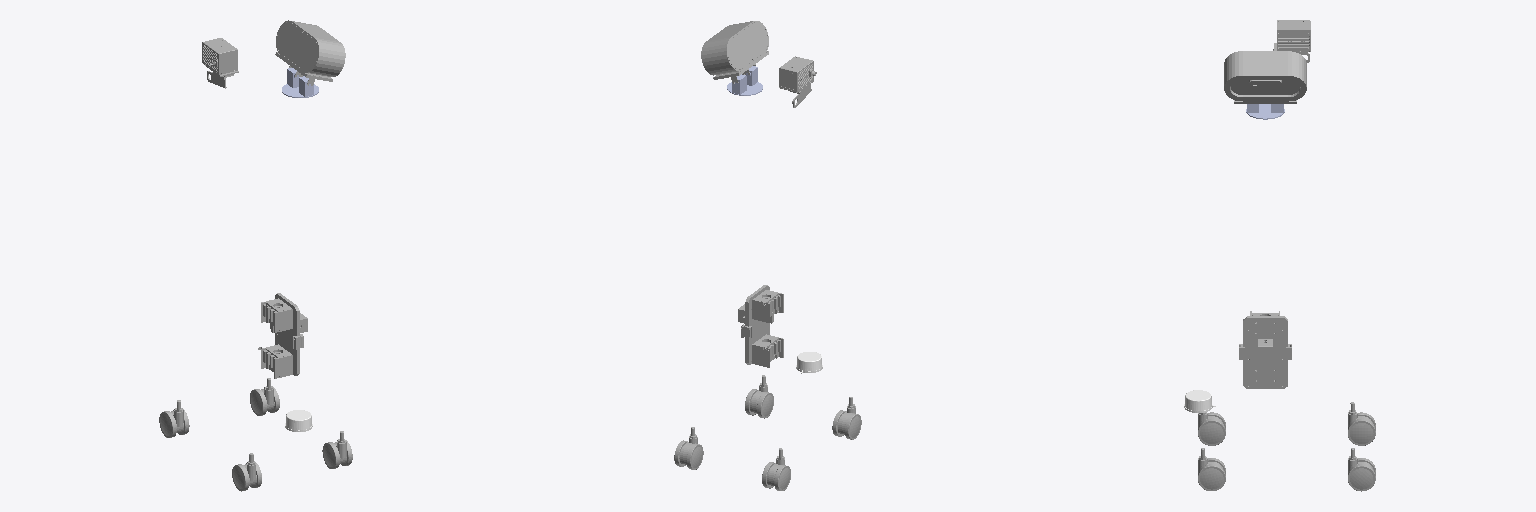
URDF robot description (minnav_moma_description):
<?xml version="1.0" encoding="utf-8"?>
<!-- This URDF was automatically created by SolidWorks to URDF Exporter! Originally created by [author] ([email redacted]) 
     Commit Version: 1.5.1-0-g916b5db  Build Version: 1.5.7152.31018
     For more information, please see http://wiki.ros.org/sw_urdf_exporter -->
<robot
  name="minnav_moma_description">
  <link
    name="base_link">
    <inertial>
      <origin
        xyz="0.0403860213344624 0.495490656840133 -0.0450666311162176"
        rpy="0 0 0" />
      <mass
        value="9.01280280594588" />
      <inertia
        ixx="0.0895631286758285"
        ixy="-0.00137199882894574"
        ixz="0.00249100411054732"
        iyy="0.0978432794810514"
        iyz="-0.00016042295456057"
        izz="0.0906256853508929" />
    </inertial>
    <visual>
      <origin
        xyz="0 0 0"
        rpy="0 0 0" />
      <geometry>
        <mesh
          filename="package://minnav_moma_description/meshes/v2/base_link.STL" />
      </geometry>
      <material
        name="">
        <color
          rgba="0.752941176470588 0.752941176470588 0.752941176470588 1" />
      </material>
    </visual>
    <collision>
      <origin
        xyz="0 0 0"
        rpy="0 0 0" />
      <geometry>
        <mesh
          filename="package://minnav_moma_description/meshes/v2/base_link.STL" />
      </geometry>
    </collision>
  </link>
  <link
    name="2DRadar">
    <inertial>
      <origin
        xyz="3.81358176767821E-05 0.0168839488939112 5.55414041841784E-09"
        rpy="0 0 0" />
      <mass
        value="0.141542870807911" />
      <inertia
        ixx="6.03570230255589E-05"
        ixy="7.76468231305162E-08"
        ixz="-2.37252352294725E-11"
        iyy="9.22530105635559E-05"
        iyz="-7.76258819389751E-12"
        izz="6.05891194689322E-05" />
    </inertial>
    <visual>
      <origin
        xyz="0 0 0"
        rpy="0 0 0" />
      <geometry>
        <mesh
          filename="package://minnav_moma_description/meshes/v2/2DRadar.STL" />
      </geometry>
      <material
        name="">
        <color
          rgba="1 1 1 1" />
      </material>
    </visual>
    <collision>
      <origin
        xyz="0 0 0"
        rpy="0 0 0" />
      <geometry>
        <mesh
          filename="package://minnav_moma_description/meshes/v2/2DRadar.STL" />
      </geometry>
    </collision>
  </link>
  <joint
    name="JT_2DRadar"
    type="fixed">
    <origin
      xyz="0.03 -0.162 0.1775"
      rpy="1.5708 0 1.5708" />
    <parent
      link="base_link" />
    <child
      link="2DRadar" />
    <axis
      xyz="0 0 0" />
  </joint>
  <link
    name="ArmBase">
    <inertial>
      <origin
        xyz="-0.0212259398085508 -0.023220210965598 0.000303630377992841"
        rpy="0 0 0" />
      <mass
        value="0.721940197442544" />
      <inertia
        ixx="0.00158920125791432"
        ixy="-4.11141260832954E-05"
        ixz="-8.76729740001719E-07"
        iyy="0.000690426545178568"
        iyz="-1.23499539645942E-06"
        izz="0.00117650013078168" />
    </inertial>
    <visual>
      <origin
        xyz="0 0 0"
        rpy="0 0 0" />
      <geometry>
        <mesh
          filename="package://minnav_moma_description/meshes/v2/ArmBase.STL" />
      </geometry>
      <material
        name="">
        <color
          rgba="0.752941176470588 0.752941176470588 0.752941176470588 1" />
      </material>
    </visual>
    <collision>
      <origin
        xyz="0 0 0"
        rpy="0 0 0" />
      <geometry>
        <mesh
          filename="package://minnav_moma_description/meshes/v2/ArmBase.STL" />
      </geometry>
    </collision>
  </link>
  <joint
    name="JT_ArmBase"
    type="prismatic">
    <origin
      xyz="0.1056 0.0175 0.3925"
      rpy="1.5708 0 0" />
    <parent
      link="base_link" />
    <child
      link="ArmBase" />
    <axis
      xyz="0 -1 0" />
    <limit
      lower="-0.3"
      upper="0"
      effort="0"
      velocity="0" />
  </joint>
  <link
    name="UniWheelBase_LB">
    <inertial>
      <origin
        xyz="0.0182260960322877 5.55111512312578E-17 -0.029270899984493"
        rpy="0 0 0" />
      <mass
        value="0.0847351495375796" />
      <inertia
        ixx="3.49474283390519E-05"
        ixy="3.11041504027681E-20"
        ixz="-1.16340041790673E-05"
        iyy="6.07135705376021E-05"
        iyz="1.30363335304502E-20"
        izz="3.34756139191196E-05" />
    </inertial>
    <visual>
      <origin
        xyz="0 0 0"
        rpy="0 0 0" />
      <geometry>
        <mesh
          filename="package://minnav_moma_description/meshes/v2/UniWheelBase_LB.STL" />
      </geometry>
      <material
        name="">
        <color
          rgba="0.752941176470588 0.752941176470588 0.752941176470588 1" />
      </material>
    </visual>
    <collision>
      <origin
        xyz="0 0 0"
        rpy="0 0 0" />
      <geometry>
        <mesh
          filename="package://minnav_moma_description/meshes/v2/UniWheelBase_LB.STL" />
      </geometry>
    </collision>
  </link>
  <joint
    name="JT_UniWheelBase_LB"
    type="continuous">
    <origin
      xyz="0.1735 0.25 0.0295"
      rpy="3.1416 0 1.5708" />
    <parent
      link="base_link" />
    <child
      link="UniWheelBase_LB" />
    <axis
      xyz="0 0 1" />
  </joint>
  <link
    name="UniWheel_LB">
    <inertial>
      <origin
        xyz="1.35288199670791E-08 3.81426298878829E-08 -2.32971358038458E-08"
        rpy="0 0 0" />
      <mass
        value="0.131455385710739" />
      <inertia
        ixx="8.23652797722568E-05"
        ixy="-4.32851042767412E-11"
        ixz="-1.47949297594817E-05"
        iyy="4.67613870209975E-05"
        iyz="-2.809067591878E-11"
        izz="5.29115412162832E-05" />
    </inertial>
    <visual>
      <origin
        xyz="0 0 0"
        rpy="0 0 0" />
      <geometry>
        <mesh
          filename="package://minnav_moma_description/meshes/v2/UniWheel_LB.STL" />
      </geometry>
      <material
        name="">
        <color
          rgba="0.752941176470588 0.752941176470588 0.752941176470588 1" />
      </material>
    </visual>
    <collision>
      <origin
        xyz="0 0 0"
        rpy="0 0 0" />
      <geometry>
        <mesh
          filename="package://minnav_moma_description/meshes/v2/UniWheel_LB.STL" />
      </geometry>
    </collision>
  </link>
  <joint
    name="JT_UniWheel_LB"
    type="continuous">
    <origin
      xyz="0.024 0 -0.016"
      rpy="-2.2739 0.26249 1.8679" />
    <parent
      link="UniWheelBase_LB" />
    <child
      link="UniWheel_LB" />
    <axis
      xyz="0.92344 0 -0.38375" />
  </joint>
  <link
    name="UniWheelBase_RB">
    <inertial>
      <origin
        xyz="0.0182260960322876 1.38777878078145E-17 -0.029270899984493"
        rpy="0 0 0" />
      <mass
        value="0.0847351495375795" />
      <inertia
        ixx="3.49474283390518E-05"
        ixy="3.02345328211204E-20"
        ixz="-1.16340041790673E-05"
        iyy="6.0713570537602E-05"
        iyz="6.28812266231557E-21"
        izz="3.34756139191195E-05" />
    </inertial>
    <visual>
      <origin
        xyz="0 0 0"
        rpy="0 0 0" />
      <geometry>
        <mesh
          filename="package://minnav_moma_description/meshes/v2/UniWheelBase_RB.STL" />
      </geometry>
      <material
        name="">
        <color
          rgba="0.752941176470588 0.752941176470588 0.752941176470588 1" />
      </material>
    </visual>
    <collision>
      <origin
        xyz="0 0 0"
        rpy="0 0 0" />
      <geometry>
        <mesh
          filename="package://minnav_moma_description/meshes/v2/UniWheelBase_RB.STL" />
      </geometry>
    </collision>
  </link>
  <joint
    name="JT_UniWheelBase_RB"
    type="continuous">
    <origin
      xyz="-0.1135 0.25 0.0295"
      rpy="3.1416 0 1.5708" />
    <parent
      link="base_link" />
    <child
      link="UniWheelBase_RB" />
    <axis
      xyz="0 0 1" />
  </joint>
  <link
    name="UniWheel_RB">
    <inertial>
      <origin
        xyz="1.35288200087125E-08 3.81426298948218E-08 -2.32971358038458E-08"
        rpy="0 0 0" />
      <mass
        value="0.131455385710739" />
      <inertia
        ixx="8.23651467092563E-05"
        ixy="-4.33611722537931E-11"
        ixz="-1.47949693968671E-05"
        iyy="4.67614248550018E-05"
        iyz="-2.80592970201838E-11"
        izz="5.29113308586732E-05" />
    </inertial>
    <visual>
      <origin
        xyz="0 0 0"
        rpy="0 0 0" />
      <geometry>
        <mesh
          filename="package://minnav_moma_description/meshes/v2/UniWheel_RB.STL" />
      </geometry>
      <material
        name="">
        <color
          rgba="0.752941176470588 0.752941176470588 0.752941176470588 1" />
      </material>
    </visual>
    <collision>
      <origin
        xyz="0 0 0"
        rpy="0 0 0" />
      <geometry>
        <mesh
          filename="package://minnav_moma_description/meshes/v2/UniWheel_RB.STL" />
      </geometry>
    </collision>
  </link>
  <joint
    name="JT_UniWheel_RB"
    type="continuous">
    <origin
      xyz="0.024 0 -0.016"
      rpy="-1.583 0.0050581 -1.177" />
    <parent
      link="UniWheelBase_RB" />
    <child
      link="UniWheel_RB" />
    <axis
      xyz="0.92344 0 -0.38375" />
  </joint>
  <link
    name="UniWheelBase_RF">
    <inertial>
      <origin
        xyz="0.0182260960322877 2.77555756156289E-17 -0.029270899984493"
        rpy="0 0 0" />
      <mass
        value="0.0847351495375796" />
      <inertia
        ixx="3.4947428339052E-05"
        ixy="3.8797981127707E-20"
        ixz="-1.16340041790674E-05"
        iyy="6.07135705376022E-05"
        iyz="2.01517494285717E-20"
        izz="3.34756139191196E-05" />
    </inertial>
    <visual>
      <origin
        xyz="0 0 0"
        rpy="0 0 0" />
      <geometry>
        <mesh
          filename="package://minnav_moma_description/meshes/v2/UniWheelBase_RF.STL" />
      </geometry>
      <material
        name="">
        <color
          rgba="0.752941176470588 0.752941176470588 0.752941176470588 1" />
      </material>
    </visual>
    <collision>
      <origin
        xyz="0 0 0"
        rpy="0 0 0" />
      <geometry>
        <mesh
          filename="package://minnav_moma_description/meshes/v2/UniWheelBase_RF.STL" />
      </geometry>
    </collision>
  </link>
  <joint
    name="JT_UniWheelBase_RF"
    type="continuous">
    <origin
      xyz="-0.1135 -0.15 0.0295"
      rpy="3.1416 0 1.5708" />
    <parent
      link="base_link" />
    <child
      link="UniWheelBase_RF" />
    <axis
      xyz="0 0 1" />
  </joint>
  <link
    name="UniWheel_RF">
    <inertial>
      <origin
        xyz="1.3529E-08 3.8143E-08 -2.3297E-08"
        rpy="0 0 0" />
      <mass
        value="0.13146" />
      <inertia
        ixx="8.2365E-05"
        ixy="-4.3361E-11"
        ixz="-1.4795E-05"
        iyy="4.6761E-05"
        iyz="-2.8059E-11"
        izz="5.2911E-05" />
    </inertial>
    <visual>
      <origin
        xyz="0 0 0"
        rpy="0 0 0" />
      <geometry>
        <mesh
          filename="package://minnav_moma_description/meshes/v2/UniWheel_RF.STL" />
      </geometry>
      <material
        name="">
        <color
          rgba="0.75294 0.75294 0.75294 1" />
      </material>
    </visual>
    <collision>
      <origin
        xyz="0 0 0"
        rpy="0 0 0" />
      <geometry>
        <mesh
          filename="package://minnav_moma_description/meshes/v2/UniWheel_RF.STL" />
      </geometry>
    </collision>
  </link>
  <joint
    name="JT_UniWheel_RF"
    type="continuous">
    <origin
      xyz="0.024 0 -0.016"
      rpy="1.7124 0.058584 1.1811" />
    <parent
      link="UniWheelBase_RF" />
    <child
      link="UniWheel_RF" />
    <axis
      xyz="0.92344 0 -0.38375" />
  </joint>
  <link
    name="UniWheelBase_LF">
    <inertial>
      <origin
        xyz="0.018226 2.7756E-17 -0.029271"
        rpy="0 0 0" />
      <mass
        value="0.084735" />
      <inertia
        ixx="3.4947E-05"
        ixy="2.3781E-20"
        ixz="-1.1634E-05"
        iyy="6.0714E-05"
        iyz="5.1696E-21"
        izz="3.3476E-05" />
    </inertial>
    <visual>
      <origin
        xyz="0 0 0"
        rpy="0 0 0" />
      <geometry>
        <mesh
          filename="package://minnav_moma_description/meshes/v2/UniWheelBase_LF.STL" />
      </geometry>
      <material
        name="">
        <color
          rgba="0.75294 0.75294 0.75294 1" />
      </material>
    </visual>
    <collision>
      <origin
        xyz="0 0 0"
        rpy="0 0 0" />
      <geometry>
        <mesh
          filename="package://minnav_moma_description/meshes/v2/UniWheelBase_LF.STL" />
      </geometry>
    </collision>
  </link>
  <joint
    name="JT_UniWheelBase_LF"
    type="continuous">
    <origin
      xyz="0.1735 -0.15 0.0295"
      rpy="3.1416 0 1.5708" />
    <parent
      link="base_link" />
    <child
      link="UniWheelBase_LF" />
    <axis
      xyz="0 0 1" />
  </joint>
  <link
    name="UniWheel_LF">
    <inertial>
      <origin
        xyz="1.35288200919792E-08 3.81426298740051E-08 -2.32971358697653E-08"
        rpy="0 0 0" />
      <mass
        value="0.131455385710739" />
      <inertia
        ixx="8.23651467092563E-05"
        ixy="-4.3361172422088E-11"
        ixz="-1.4794969396867E-05"
        iyy="4.67614248550019E-05"
        iyz="-2.80592969555975E-11"
        izz="5.29113308586733E-05" />
    </inertial>
    <visual>
      <origin
        xyz="0 0 0"
        rpy="0 0 0" />
      <geometry>
        <mesh
          filename="package://minnav_moma_description/meshes/v2/UniWheel_LF.STL" />
      </geometry>
      <material
        name="">
        <color
          rgba="0.752941176470588 0.752941176470588 0.752941176470588 1" />
      </material>
    </visual>
    <collision>
      <origin
        xyz="0 0 0"
        rpy="0 0 0" />
      <geometry>
        <mesh
          filename="package://minnav_moma_description/meshes/v2/UniWheel_LF.STL" />
      </geometry>
    </collision>
  </link>
  <joint
    name="JT_UniWheel_LF"
    type="continuous">
    <origin
      xyz="0.024 0 -0.016"
      rpy="-0.26903 -0.38104 -1.4686" />
    <parent
      link="UniWheelBase_LF" />
    <child
      link="UniWheel_LF" />
    <axis
      xyz="0.92344 0 -0.38375" />
  </joint>
  <link
    name="3DRadar">
    <inertial>
      <origin
        xyz="-0.0312266646279417 0.0638299736845729 0.030856917757328"
        rpy="0 0 0" />
      <mass
        value="0.373601927474611" />
      <inertia
        ixx="0.000357539432888909"
        ixy="-9.66418226965086E-07"
        ixz="1.25802730916535E-06"
        iyy="0.000355400987826577"
        iyz="-2.25204460081374E-06"
        izz="0.000211286197089302" />
    </inertial>
    <visual>
      <origin
        xyz="0 0 0"
        rpy="0 0 0" />
      <geometry>
        <mesh
          filename="package://minnav_moma_description/meshes/v2/3DRadar.STL" />
      </geometry>
      <material
        name="">
        <color
          rgba="0.752941176470588 0.752941176470588 0.752941176470588 1" />
      </material>
    </visual>
    <collision>
      <origin
        xyz="0 0 0"
        rpy="0 0 0" />
      <geometry>
        <mesh
          filename="package://minnav_moma_description/meshes/v2/3DRadar.STL" />
      </geometry>
    </collision>
  </link>
  <joint
    name="JT_3DRadar"
    type="fixed">
    <origin
      xyz="-0.0428 0.1215 1.151"
      rpy="1.5708 0 0" />
    <parent
      link="base_link" />
    <child
      link="3DRadar" />
    <axis
      xyz="0 0 0" />
    <limit
      lower="0"
      upper="1.5708"
      effort="0"
      velocity="0" />
  </joint>
  <link
    name="PanTiltLink1">
    <inertial>
      <origin
        xyz="-9.0205620750794E-17 -1.11022302462516E-16 0.0224194936251991"
        rpy="0 0 0" />
      <mass
        value="0.125638006386442" />
      <inertia
        ixx="5.79840369760146E-05"
        ixy="-4.95095366983696E-09"
        ixz="-3.21800172164819E-19"
        iyy="0.000158965664023198"
        iyz="1.743720061968E-19"
        izz="0.000150893790612493" />
    </inertial>
    <visual>
      <origin
        xyz="0 0 0"
        rpy="0 0 0" />
      <geometry>
        <mesh
          filename="package://minnav_moma_description/meshes/v2/PanTiltLink1.STL" />
      </geometry>
      <material
        name="">
        <color
          rgba="0.796078431372549 0.823529411764706 0.937254901960784 1" />
      </material>
    </visual>
    <collision>
      <origin
        xyz="0 0 0"
        rpy="0 0 0" />
      <geometry>
        <mesh
          filename="package://minnav_moma_description/meshes/v2/PanTiltLink1.STL" />
      </geometry>
    </collision>
  </link>
  <joint
    name="JT_PanTiltLink1"
    type="continuous">
    <origin
      xyz="0.13829 0.016999 1.096"
      rpy="0 0 -1.5728" />
    <parent
      link="base_link" />
    <child
      link="PanTiltLink1" />
    <axis
      xyz="0 0 1" />
  </joint>
  <link
    name="Head">
    <inertial>
      <origin
        xyz="0.0224674869394891 0.0695919460280914 -0.000468505805934716"
        rpy="0 0 0" />
      <mass
        value="0.439963150821872" />
      <inertia
        ixx="0.00198672347014929"
        ixy="-2.94408444443986E-05"
        ixz="-2.3716206290341E-05"
        iyy="0.00189110646012411"
        iyz="5.58767321757651E-07"
        izz="0.000643590634817323" />
    </inertial>
    <visual>
      <origin
        xyz="0 0 0"
        rpy="0 0 0" />
      <geometry>
        <mesh
          filename="package://minnav_moma_description/meshes/v2/Head.STL" />
      </geometry>
      <material
        name="">
        <color
          rgba="0.752941176470588 0.752941176470588 0.752941176470588 1" />
      </material>
    </visual>
    <collision>
      <origin
        xyz="0 0 0"
        rpy="0 0 0" />
      <geometry>
        <mesh
          filename="package://minnav_moma_description/meshes/v2/Head.STL" />
      </geometry>
    </collision>
  </link>
  <joint
    name="JT_Head"
    type="continuous">
    <origin
      xyz="0 0.00025 0.0413"
      rpy="1.569 0.10185 1.5532" />
    <parent
      link="PanTiltLink1" />
    <child
      link="Head" />
    <axis
      xyz="0.017543 0 0.99985" />
  </joint>
  <link
    name="DriWheel_R">
    <inertial>
      <origin
        xyz="-0.0321053610565765 3.29003335686195E-09 -1.46693610869608E-08"
        rpy="0 0 0" />
      <mass
        value="0.548950056836036" />
      <inertia
        ixx="0.00101586976403569"
        ixy="2.45906729414143E-09"
        ixz="-1.34581039060865E-09"
        iyy="0.000590516714896425"
        iyz="8.02668537415636E-09"
        izz="0.000590534517501471" />
    </inertial>
    <visual>
      <origin
        xyz="0 0 0"
        rpy="0 0 0" />
      <geometry>
        <mesh
          filename="package://minnav_moma_description/meshes/v2/DriWheel_R.STL" />
      </geometry>
      <material
        name="">
        <color
          rgba="0.752941176470588 0.752941176470588 0.752941176470588 1" />
      </material>
    </visual>
    <collision>
      <origin
        xyz="0 0 0"
        rpy="0 0 0" />
      <geometry>
        <mesh
          filename="package://minnav_moma_description/meshes/v2/DriWheel_R.STL" />
      </geometry>
    </collision>
  </link>
  <joint
    name="JT_DriWheel_R"
    type="continuous">
    <origin
      xyz="-0.1419 0.05 0.086"
      rpy="1.9847 0 0" />
    <parent
      link="base_link" />
    <child
      link="DriWheel_R" />
    <axis
      xyz="1 0 0" />
  </joint>
  <link
    name="DriWheel_L">
    <inertial>
      <origin
        xyz="0 0 0"
        rpy="0 0 0" />
      <mass
        value="0" />
      <inertia
        ixx="0"
        ixy="0"
        ixz="0"
        iyy="0"
        iyz="0"
        izz="0" />
    </inertial>
    <visual>
      <origin
        xyz="0 0 0"
        rpy="0 0 0" />
      <geometry>
        <mesh
          filename="package://minnav_moma_description/meshes/v2/DriWheel_L.STL" />
      </geometry>
      <material
        name="">
        <color
          rgba="1 1 1 1" />
      </material>
    </visual>
    <collision>
      <origin
        xyz="0 0 0"
        rpy="0 0 0" />
      <geometry>
        <mesh
          filename="package://minnav_moma_description/meshes/v2/DriWheel_L.STL" />
      </geometry>
    </collision>
  </link>
  <joint
    name="JT_DriWheel_L"
    type="continuous">
    <origin
      xyz="0.2019 0.05 0.086"
      rpy="1.4543 0 0" />
    <parent
      link="base_link" />
    <child
      link="DriWheel_L" />
    <axis
      xyz="1 0 0" />
    <limit
      lower="0"
      upper="0"
      effort="0"
      velocity="0" />
  </joint>
</robot>

--- What the picture shows (computed from the rendered views, not written in the file) ---
The picture shows the robot from 3 angles, left to right: view 1: azimuth 30°, elevation 25°; view 2: azimuth 150°, elevation 25°; view 3: azimuth 270°, elevation 25°; orthographic projection.
Robot: minnav_moma_description — 16 links, 15 joints (12 continuous, 1 prismatic, 2 fixed); root link base_link; default pose: every joint at zero.
Visible links, largest first — view 1: Head, ArmBase, 3DRadar, PanTiltLink1, 2DRadar; view 2: Head, ArmBase, 3DRadar, PanTiltLink1; view 3: Head, ArmBase, 3DRadar, UniWheel_RF, UniWheel_LB, UniWheel_LF, UniWheel_RB, 2DRadar, PanTiltLink1.
Boxes of the visible links, x1,y1,x2,y2 form: Head: (275,20,345,85); ArmBase: (258,293,307,378); 3DRadar: (202,38,238,88); PanTiltLink1: (282,68,318,97); 2DRadar: (285,410,312,431); Head: (701,21,768,83); ArmBase: (738,285,783,367); 3DRadar: (779,56,816,107); PanTiltLink1: (727,66,762,95); Head: (1224,51,1306,103); ArmBase: (1239,311,1291,388); 3DRadar: (1273,20,1310,62); UniWheel_RF: (1198,412,1225,445); UniWheel_LB: (1348,458,1375,491); UniWheel_LF: (1198,458,1225,490); UniWheel_RB: (1348,412,1375,445); 2DRadar: (1184,390,1215,412); PanTiltLink1: (1246,104,1284,119).
Bounding box of the posed robot: 0.3749 × 0.5114 × 1.27 m (x, y, z).
13 mesh visuals loaded from 16 distinct referenced files (13 binary STL); not drawn: 3 (reference not matched to a file when rendering).